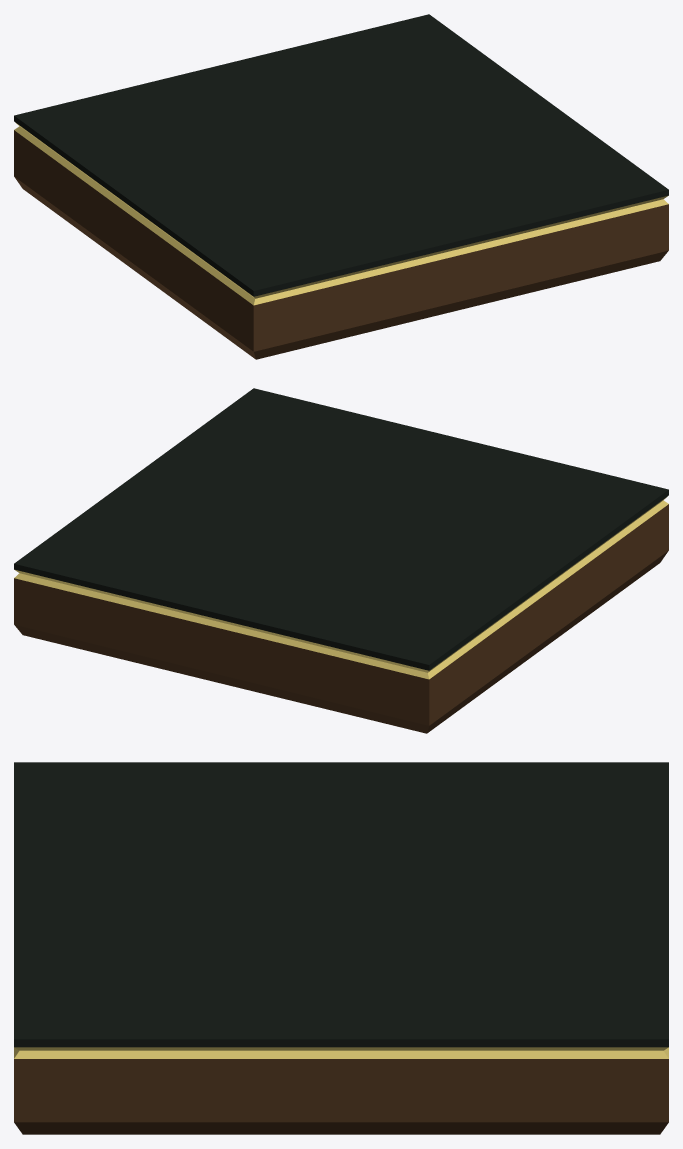
File: velvet-mat-tile-0ccce3.glb
3 views of the same model, one above another, from view 1: azimuth 30°, elevation 25°; view 2: azimuth 150°, elevation 25°; view 3: azimuth 270°, elevation 25° (orthographic). The views are drawn at different scales.
Parts seen in each view (by area): view 1: velvet-mat; view 2: velvet-mat; view 3: velvet-mat.
Part boxes in pixels (x1,y1,x2,y2): velvet-mat: (14,14,668,359); velvet-mat: (14,388,668,733); velvet-mat: (14,762,668,1134).
Bounding box in the file's own units: 0.3 × 0.05 × 0.3.
